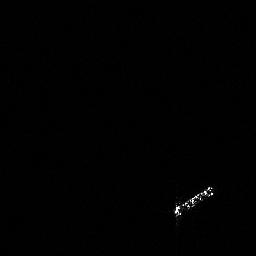ship: (173, 184, 215, 218)
